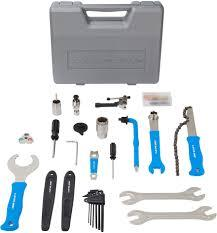wrench: (125, 203, 216, 226), (118, 185, 206, 206), (80, 187, 105, 232), (65, 138, 79, 166)
